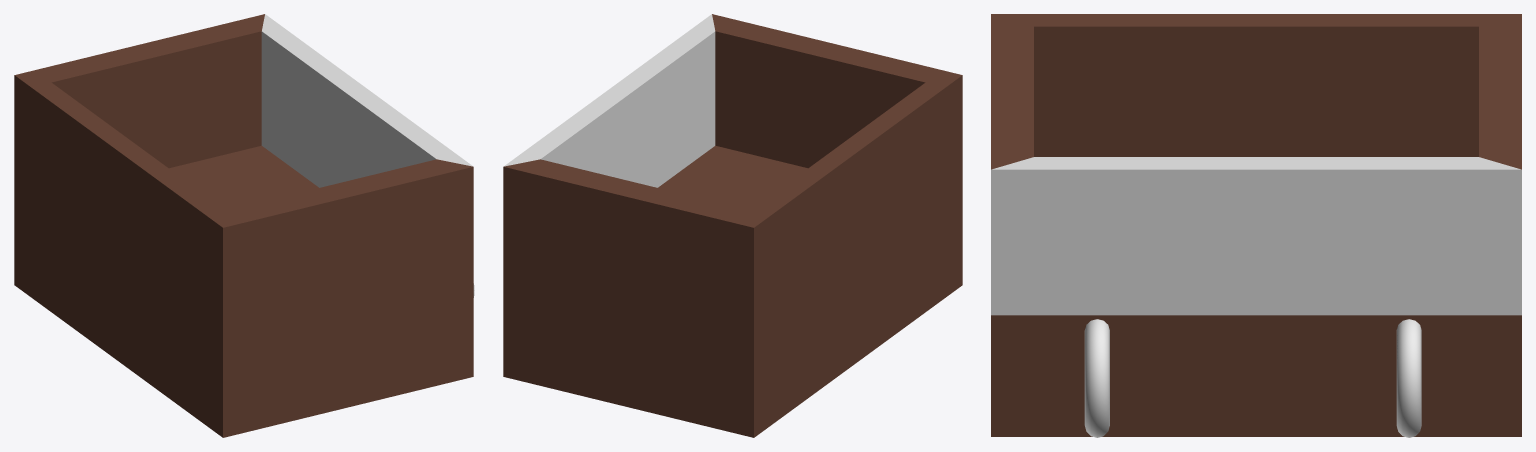
The model's file is Match Holder.fbx.
3 views of the same model, side by side, from view 1: azimuth 30°, elevation 25°; view 2: azimuth 150°, elevation 25°; view 3: azimuth 270°, elevation 25° (orthographic). The views are drawn at different scales.
Visible parts, largest first — view 1: Catcher, Glass; view 2: Catcher, Glass; view 3: Catcher, Glass, Torus.001, Torus.
Part boxes in pixels (bbox=[...]): Catcher: bbox=[14, 14, 473, 437]; Glass: bbox=[261, 14, 472, 187]; Catcher: bbox=[503, 14, 962, 437]; Glass: bbox=[504, 14, 715, 187]; Catcher: bbox=[991, 14, 1521, 436]; Glass: bbox=[991, 157, 1521, 315]; Torus.001: bbox=[1396, 319, 1421, 437]; Torus: bbox=[1084, 319, 1109, 437].
Size of the model in its own units: 25.52 by 17.56 by 31.6.
